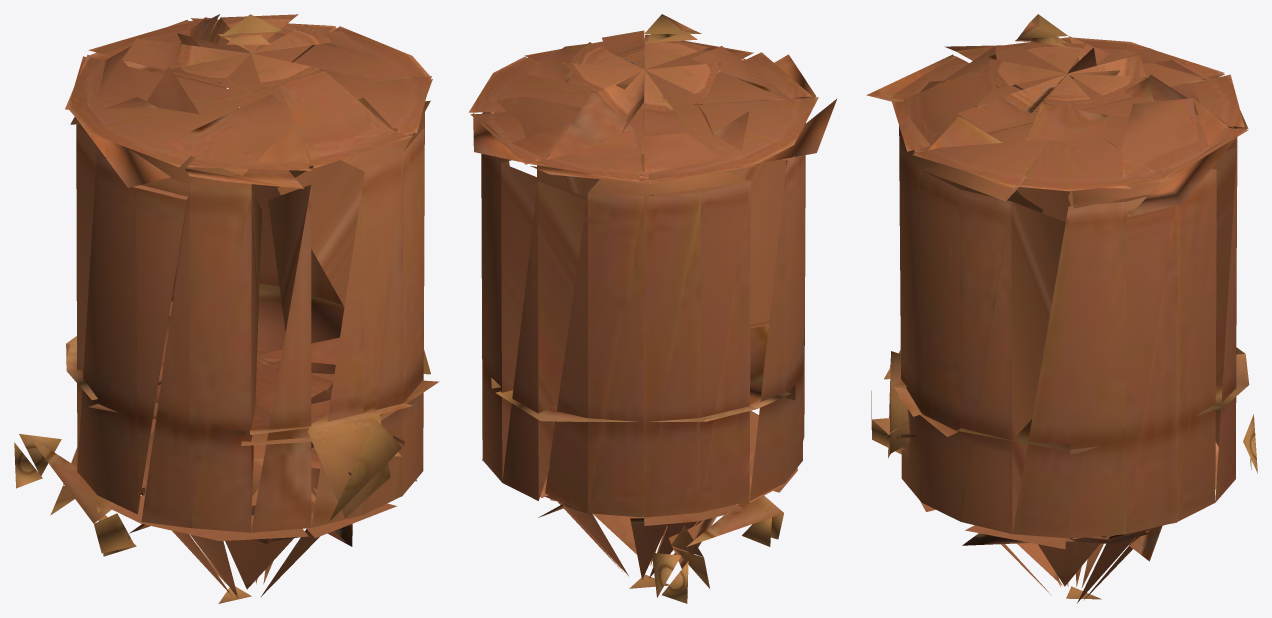
Rendered from auto-feeder.lod1.glb.
The picture shows the model from 3 angles, left to right: view 1: azimuth 30°, elevation 25°; view 2: azimuth 150°, elevation 25°; view 3: azimuth 270°, elevation 25°; orthographic projection. The views are drawn at different scales.
Parts seen in each view (by area): view 1: auto-feeder; view 2: auto-feeder; view 3: auto-feeder.
Part boxes in pixels (x1,y1,x2,y2): auto-feeder: (14, 14, 439, 603); auto-feeder: (469, 14, 837, 603); auto-feeder: (866, 14, 1257, 603).
Size of the model in its own units: 0.2364 by 0.4009 by 0.2519.
Materials: 1 (1 with a texture image).
